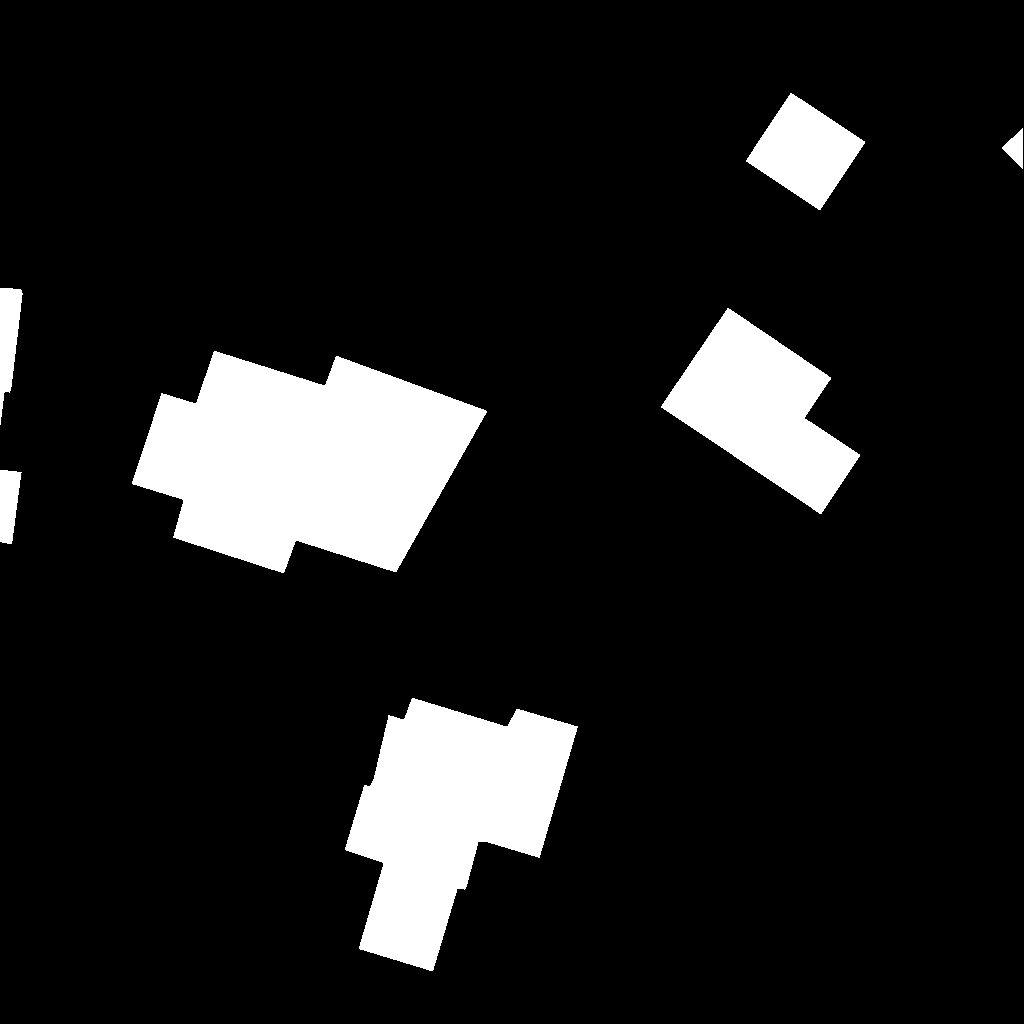building: (132, 351, 488, 574), (345, 698, 579, 972), (661, 308, 861, 515), (746, 93, 866, 211), (0, 288, 23, 545), (1002, 128, 1024, 170)
